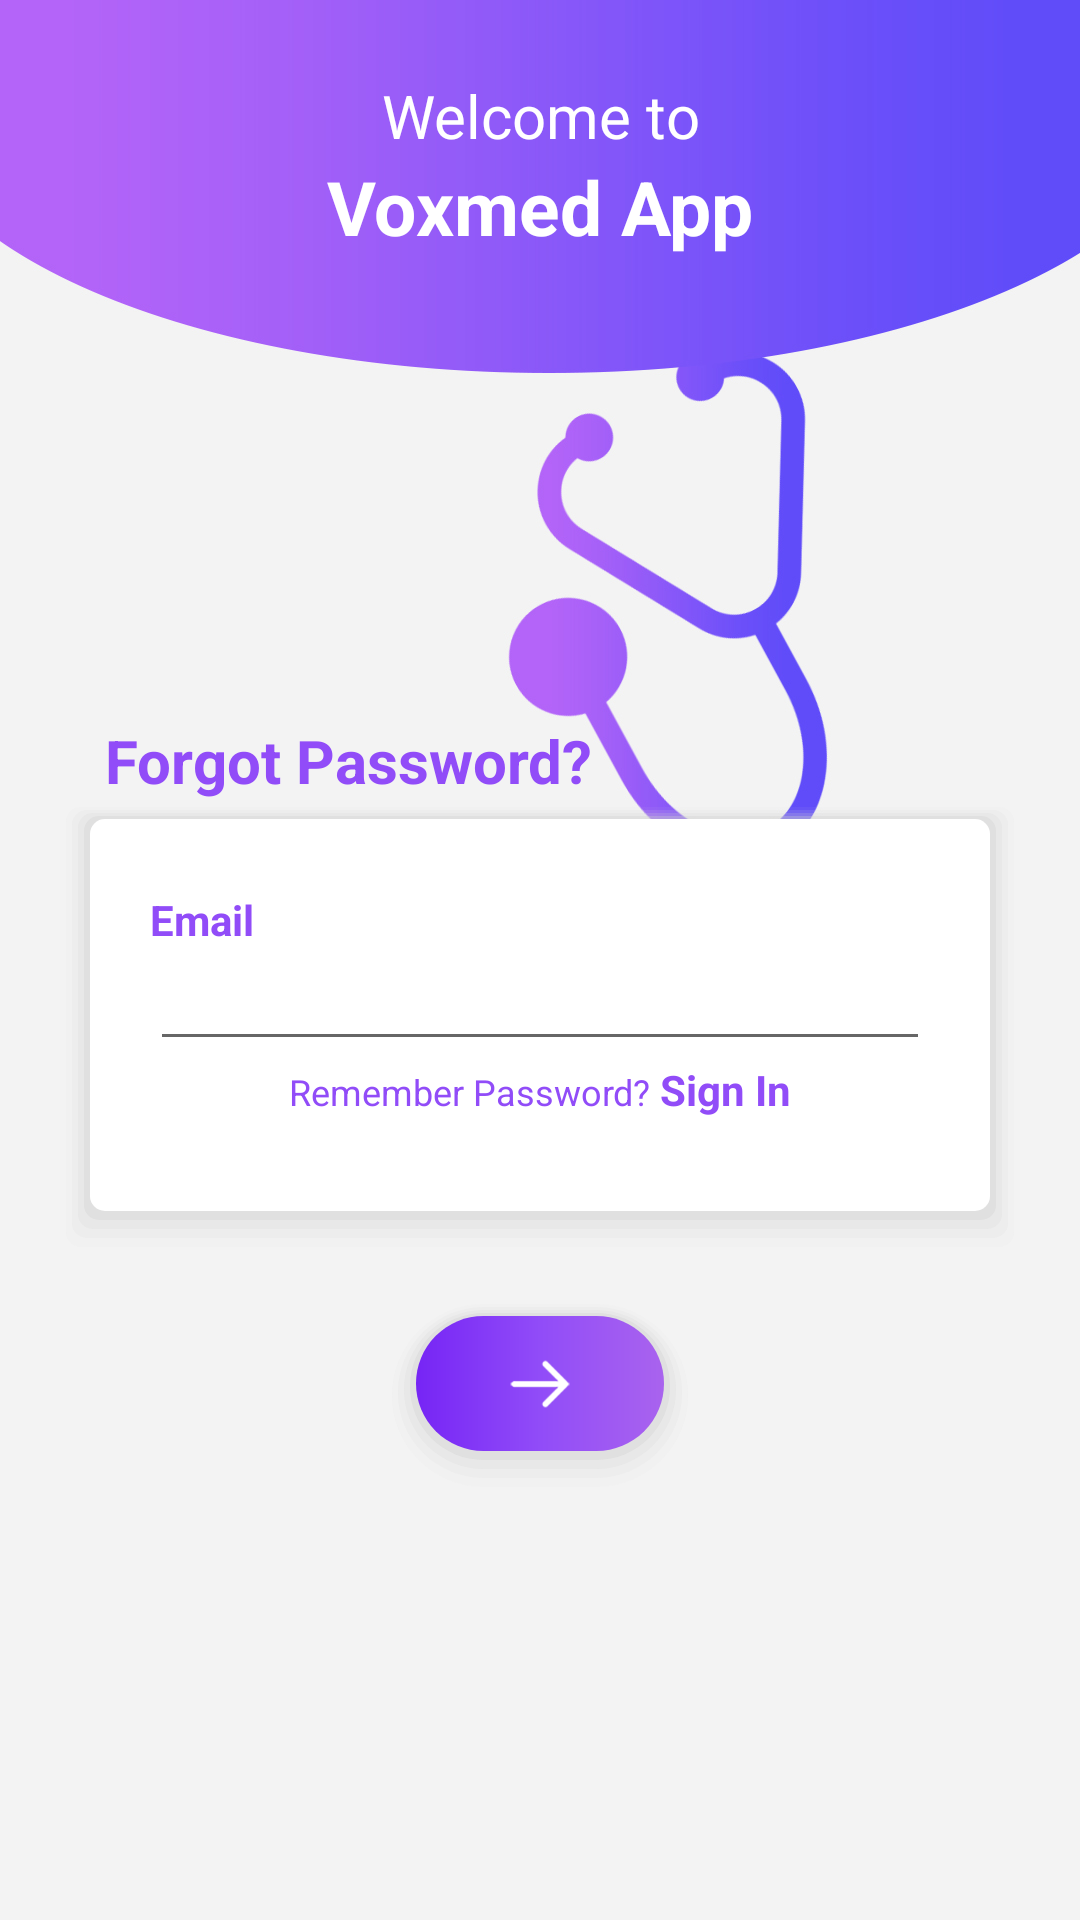

Icons on this 1080px×1920px Android screen, each with its box as [left=x1, top=y1, right=x2, bottom=y2]:
rightarrow: [left=416, top=1316, right=664, bottom=1451]
